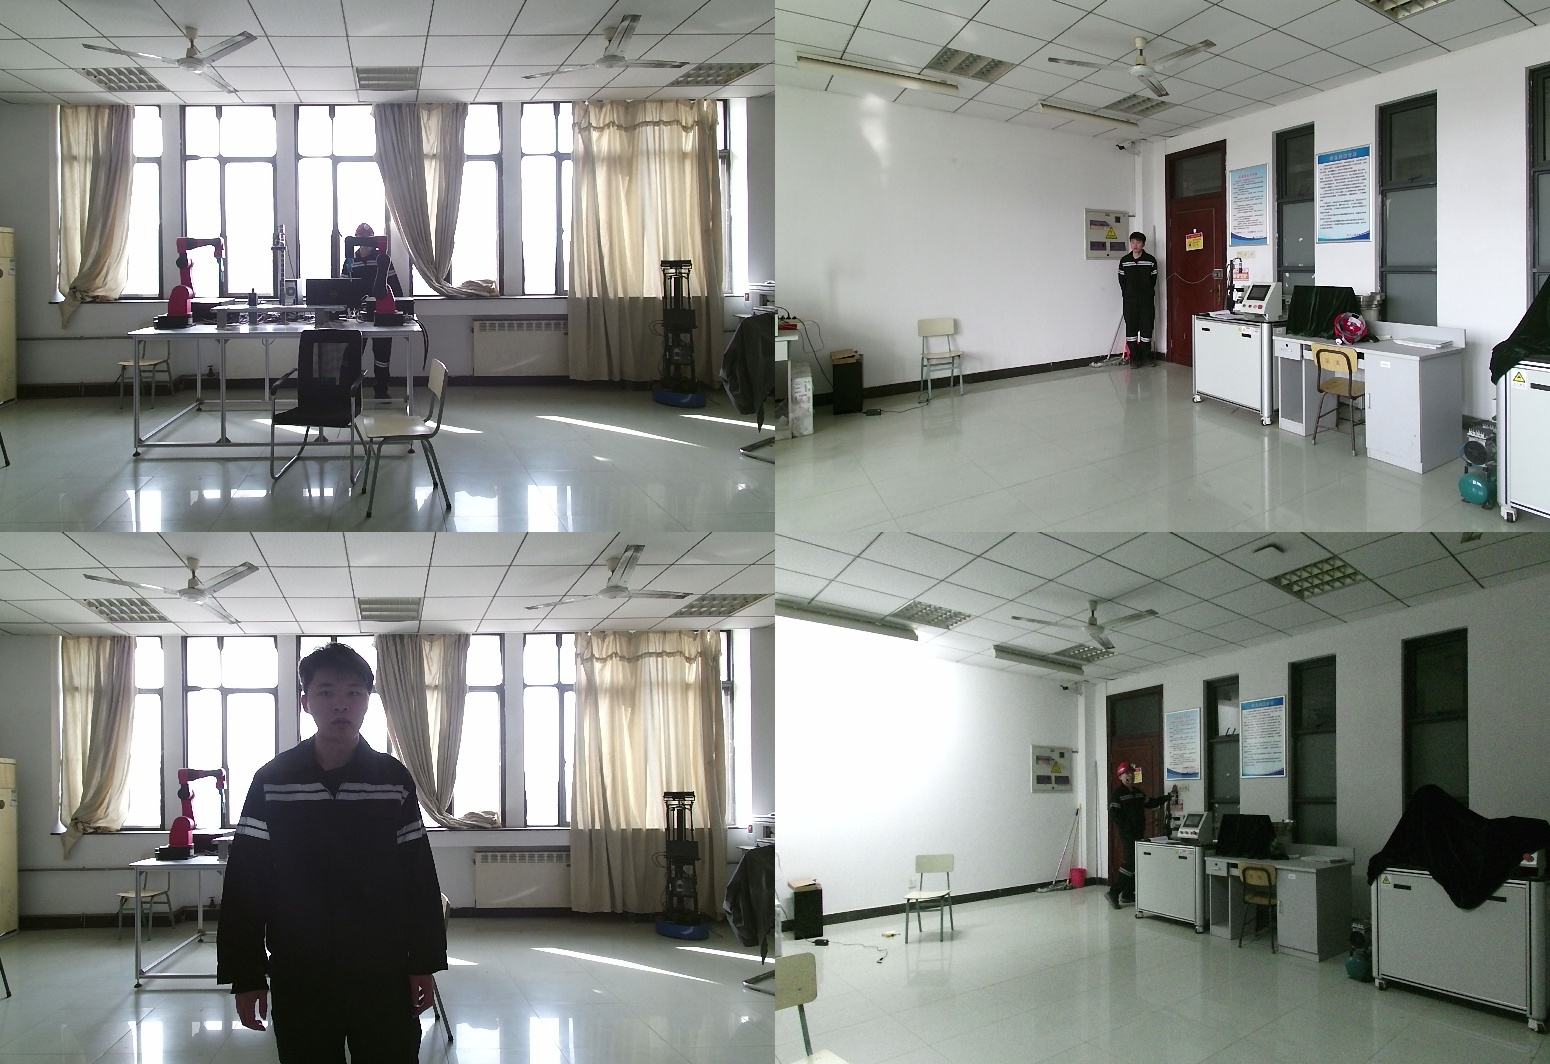person: (231, 645, 462, 1064), (343, 224, 403, 398), (1106, 765, 1169, 914), (1116, 232, 1161, 370)
